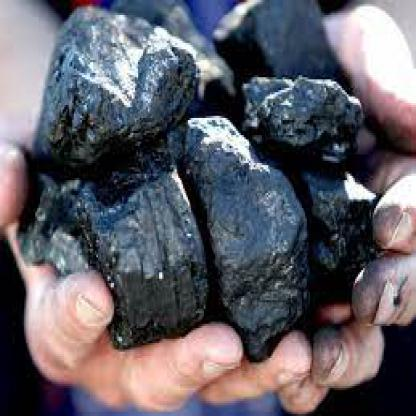Sedimentary_coal: (157, 118, 302, 337), (38, 146, 182, 356), (31, 6, 190, 163), (239, 62, 371, 165)
